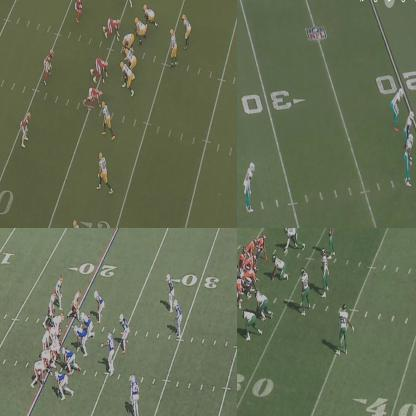CENTER: (246, 265, 258, 294), (52, 338, 62, 367), (123, 31, 135, 49)
DB: (245, 160, 255, 211), (341, 304, 350, 356), (392, 89, 404, 123), (131, 375, 141, 415), (166, 274, 174, 308), (327, 228, 335, 260), (173, 299, 180, 335)
LB: (299, 270, 312, 316), (404, 135, 414, 188), (320, 248, 330, 296), (105, 332, 115, 372), (119, 314, 129, 352), (20, 113, 30, 147), (405, 112, 415, 142), (96, 290, 104, 323), (46, 50, 53, 82), (77, 0, 85, 24)
QB: (169, 29, 177, 66), (238, 247, 246, 280), (40, 328, 50, 352)
SKILL: (100, 155, 110, 192), (102, 103, 113, 136), (258, 232, 268, 262), (183, 16, 191, 45), (72, 290, 82, 310), (54, 276, 62, 298), (50, 289, 57, 313), (73, 220, 88, 227)
